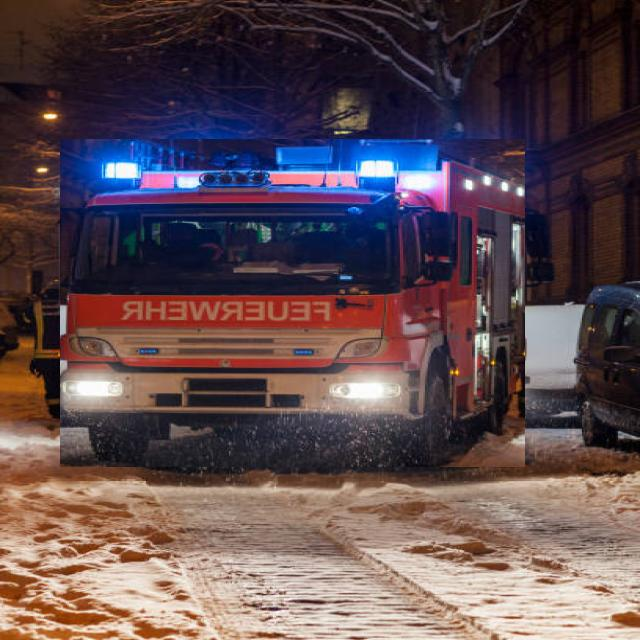emergency: (60, 140, 525, 467)
